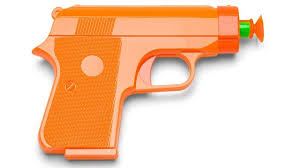Arma Falsa: (32, 2, 289, 168)
